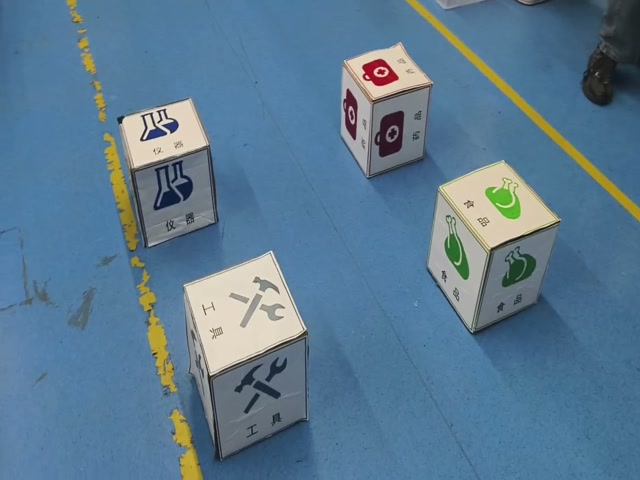Cube_food: (438, 152, 563, 254)
Cube_ins: (116, 95, 208, 173)
Cube_medicine: (340, 44, 429, 102)
Cube_tool: (179, 247, 309, 377)
